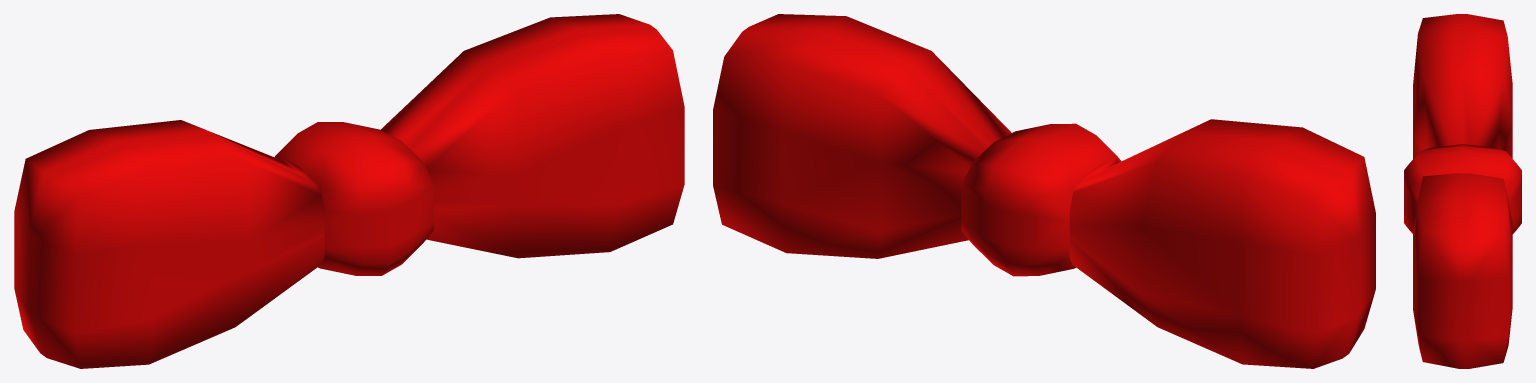
File: redribbon.fbx
The picture shows the model from 3 angles, left to right: view 1: azimuth 30°, elevation 25°; view 2: azimuth 150°, elevation 25°; view 3: azimuth 270°, elevation 25°; orthographic projection. The views are drawn at different scales.
Visible parts, largest first — view 1: Box008; view 2: Box008; view 3: Box008.
Part boxes in pixels (box(x1,y1,x2,y2)): Box008: box(14, 14, 684, 368); Box008: box(713, 14, 1375, 368); Box008: box(1404, 14, 1521, 368).
Size of the model in its own units: 1.6 by 0.486 by 0.3479.
